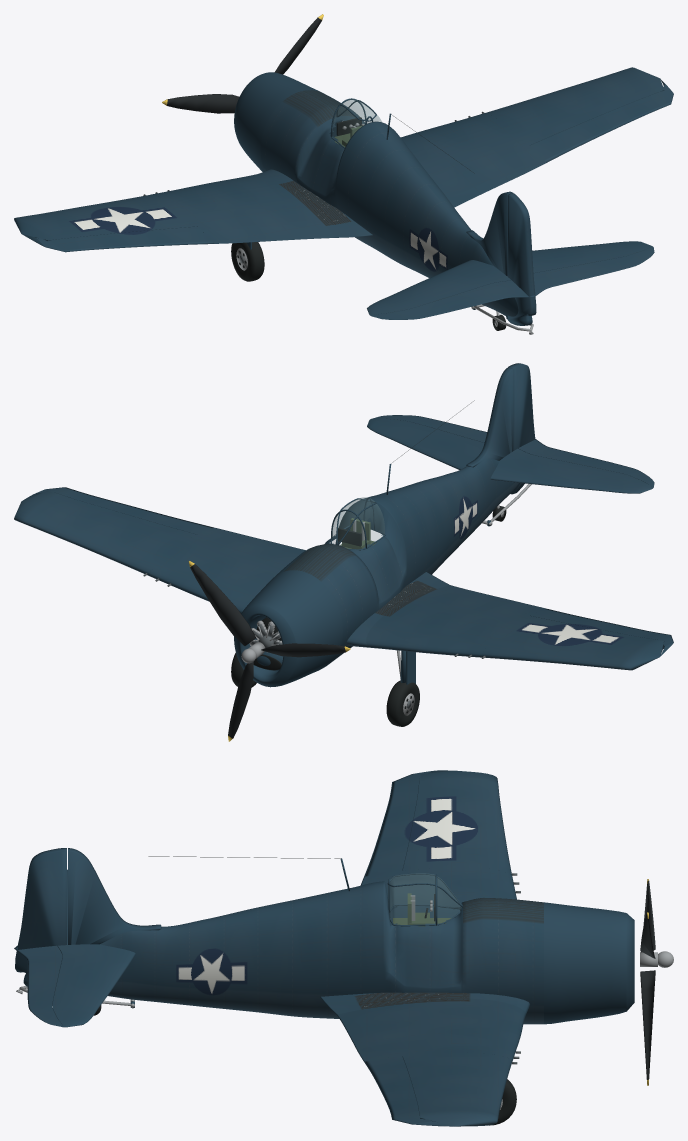
Rendered from f6f-5-hellcat.glb.
The picture shows the model from 3 angles, top to bottom: view 1: azimuth 30°, elevation 25°; view 2: azimuth 150°, elevation 25°; view 3: azimuth 270°, elevation 25°; orthographic projection. The views are drawn at different scales.
Parts seen in each view (by area): view 1: aircraft.root.mesh, control.aileron.starboard.mesh, control.rudder.mesh, control.aileron.port.mesh, control.elevator.port.mesh, control.elevator.starboard.mesh, propeller.spin.mesh, gear.port.mesh; view 2: aircraft.root.mesh, propeller.spin.mesh, gear.port.mesh, control.rudder.mesh, control.aileron.starboard.mesh, control.elevator.port.mesh, control.aileron.port.mesh, control.elevator.starboard.mesh; view 3: aircraft.root.mesh, control.rudder.mesh, control.aileron.port.mesh, control.elevator.starboard.mesh, propeller.spin.mesh, control.aileron.starboard.mesh, gear.starboard.mesh.
Part boxes in pixels (x1,y1,x2,y2): aircraft.root.mesh: (14,67,672,319); control.aileron.starboard.mesh: (530,85,673,162); control.rudder.mesh: (507,193,536,325); control.aileron.port.mesh: (37,226,214,252); control.elevator.port.mesh: (371,280,533,319); control.elevator.starboard.mesh: (532,247,654,296); propeller.spin.mesh: (162,14,323,113); gear.port.mesh: (231,242,264,281); aircraft.root.mesh: (14,368,673,687); propeller.spin.mesh: (188,561,350,741); gear.port.mesh: (386,650,419,726); control.rudder.mesh: (507,363,535,493); control.aileron.starboard.mesh: (36,487,213,534); control.elevator.port.mesh: (518,439,654,487); control.aileron.port.mesh: (530,608,673,648); control.elevator.starboard.mesh: (371,415,487,442); aircraft.root.mesh: (52,770,634,1126); control.rudder.mesh: (15,848,66,986); control.aileron.port.mesh: (364,771,432,876); control.elevator.starboard.mesh: (14,945,63,1027); propeller.spin.mesh: (640,879,673,1085); control.aileron.starboard.mesh: (364,1056,431,1124); gear.starboard.mesh: (489,1079,516,1125).
Size of the model in its own units: 13.06 by 3.96 by 10.24.
10 materials, 1 textured.
